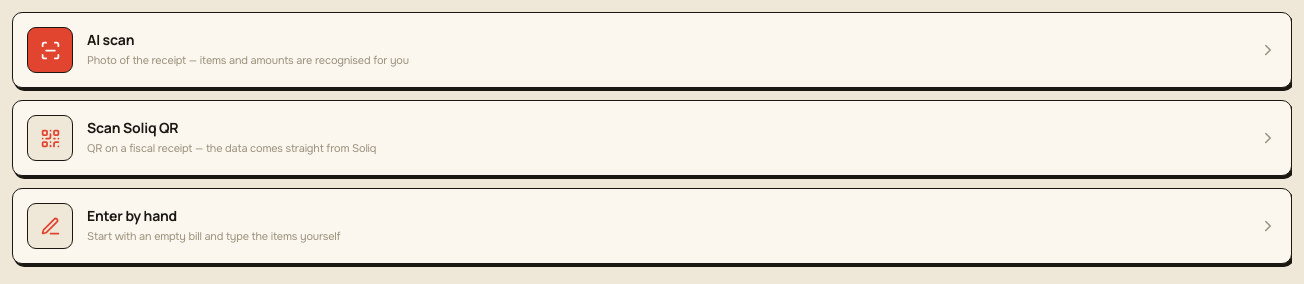
Test case: StepSource — where the photo comes from › asks before opening the camera on Android
Click the text "AI scan" at (111, 40), box [87,30,134,49]
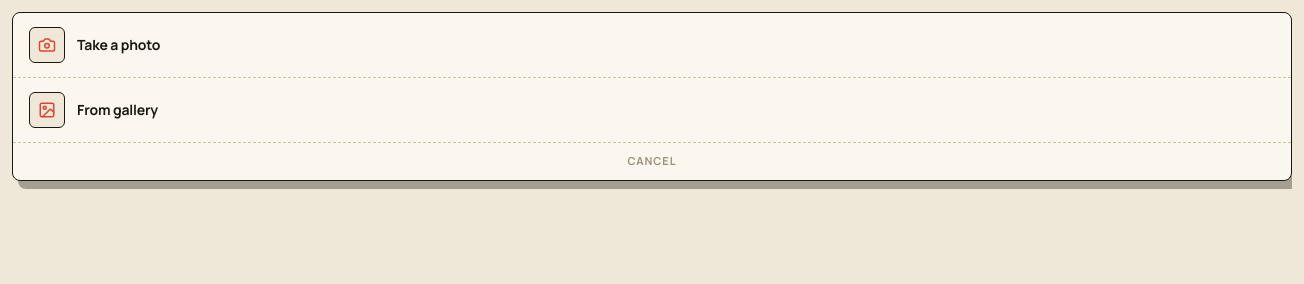
Now the text "Take a photo" is shown, box [77,35,160,55]
Now the text "From gallery" is shown, box [77,100,158,120]
